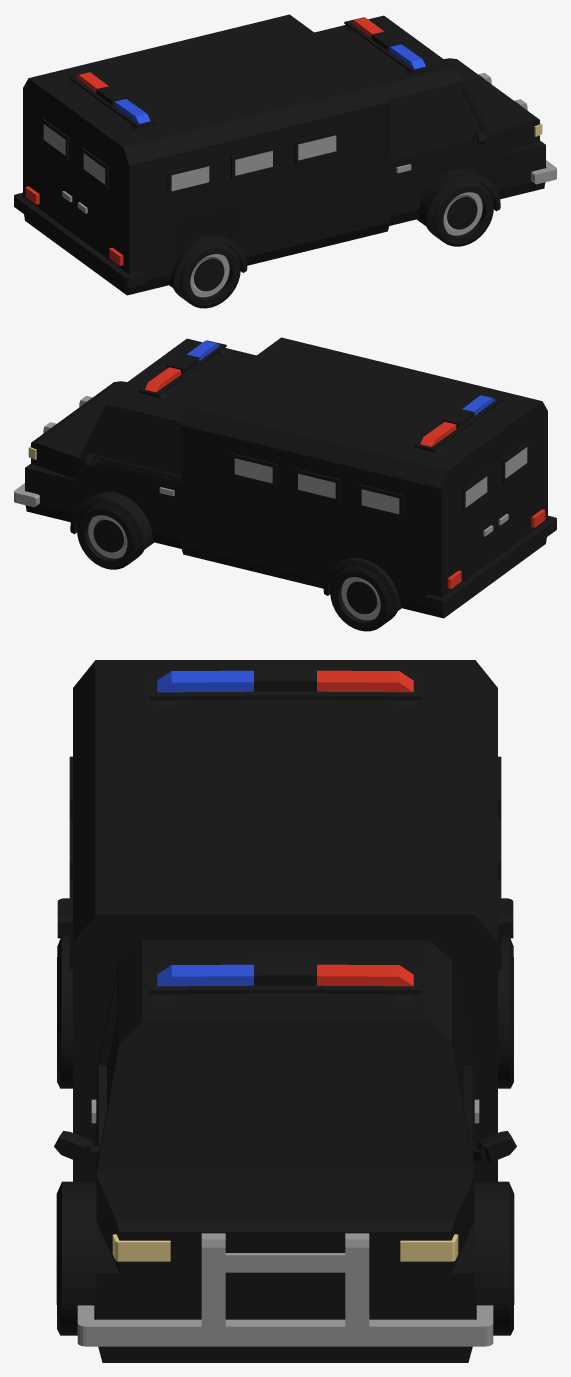
Rendered from Policecar_3_Finished.fbx.
3 renders of one model, top to bottom at view 1: azimuth 30°, elevation 25°; view 2: azimuth 150°, elevation 25°; view 3: azimuth 270°, elevation 25°, orthographic. The views are drawn at different scales.
Visible parts, largest first — view 1: Body, Wheel_RR, Wheel_FR; view 2: Body, Wheel_RL, Wheel_FL; view 3: Body.
Boxes of the visible parts, x1,y1,x2,y2 form: Body: (14, 14, 556, 295); Wheel_RR: (173, 243, 240, 308); Wheel_FR: (427, 181, 493, 246); Body: (14, 337, 556, 618); Wheel_RL: (330, 566, 397, 631); Wheel_FL: (77, 504, 143, 569); Body: (54, 660, 516, 1362).
Bounding box in the file's own units: 218 × 474 × 191.
